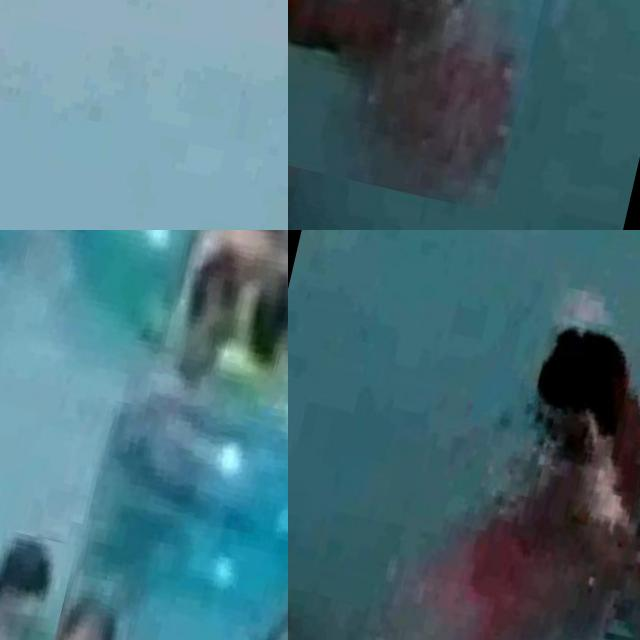drowning: (451, 273, 640, 640), (288, 0, 588, 215), (0, 529, 76, 640)
swimming: (157, 240, 288, 417), (29, 585, 139, 640)
